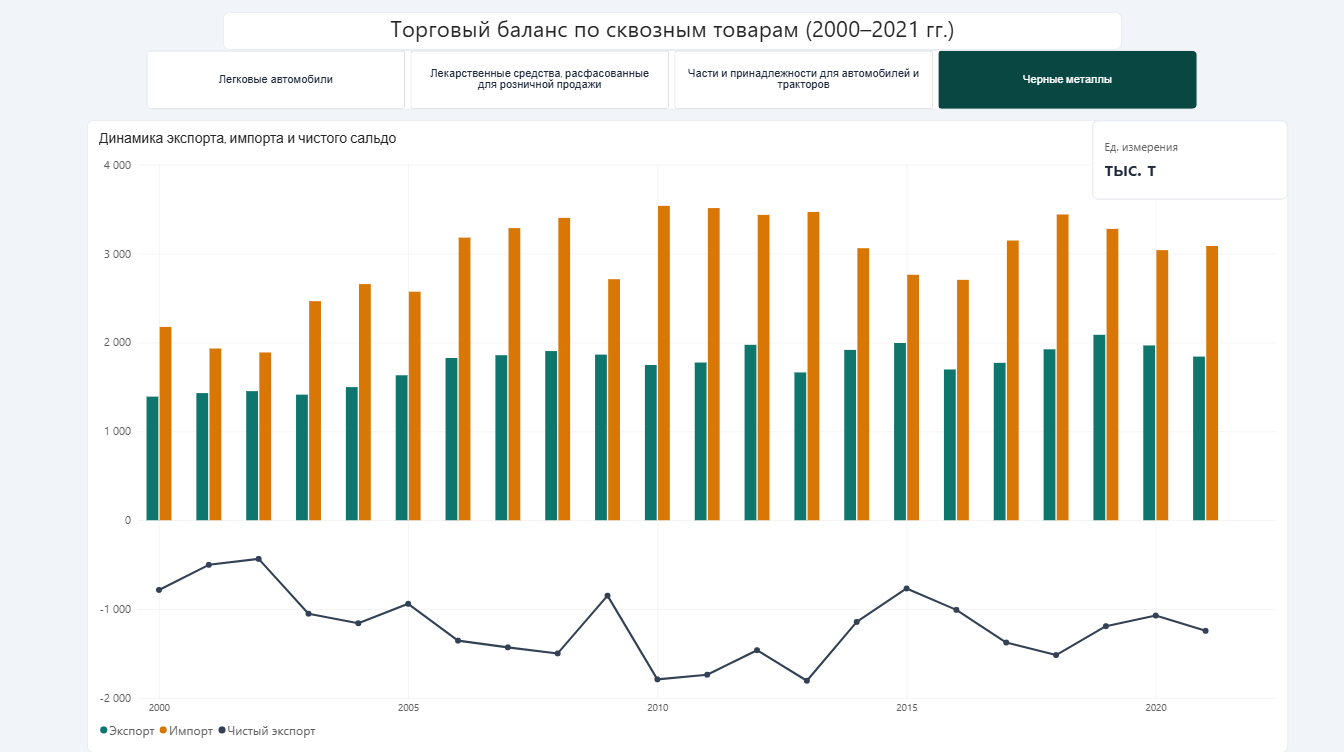

What the dashboard file says about the page in this screenshot:
{"tool":"powerbi","page":{"name":"Торговый баланс","canvas":[1920,1080],"ordinal":1},"visuals":[{"type":"textbox","box":[318,22,1284,54],"z":0},{"type":"advancedSlicerVisual","fields":{"Values":["Fact_Trade.Товар"]},"box":[208,76,1503.3,85],"z":1000},{"type":"lineClusteredColumnComboChart","title":"Динамика экспорта, импорта и чистого сальдо","fields":{"Category":["Fact_Trade.Год"],"Y":["Fact_Trade.Экспорт","Fact_Trade.Импорт"],"Y2":["Fact_Trade.Чистый экспорт"]},"box":[124.3,175.7,1716,904],"z":2000},{"type":"cardVisual","fields":{"Data":["Fact_Trade.Ед. измерения"]},"box":[1560,176,280,114],"z":3500}]}

Visuals, with their boxes in screenshot pixels (x1, y1, x2, y2), scaled from the page's 1920x1080 canvas onto the 1344x752 screenshot:
textbox: bbox(223, 15, 1121, 53)
advancedSlicerVisual - Fact_Trade.Товар: bbox(146, 53, 1198, 112)
"Динамика экспорта, импорта и чистого сальдо" lineClusteredColumnComboChart: bbox(87, 122, 1288, 751)
cardVisual - Fact_Trade.Ед. измерения: bbox(1092, 123, 1288, 202)
